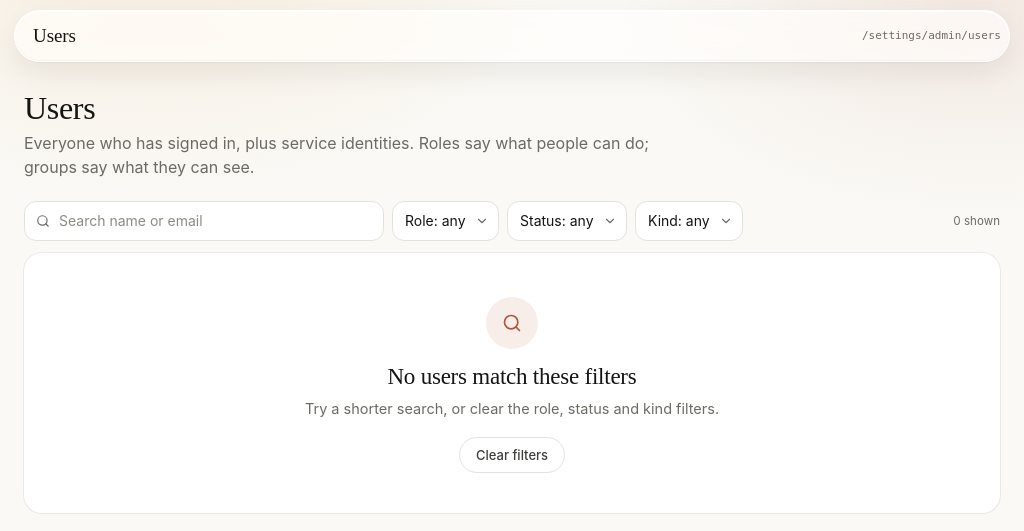
Scenario: UsersPage › an empty match offers Clear filters
Type "zainab" into the search field labelled "Search name or email" at x=204, y=221, box [24,201,384,241]
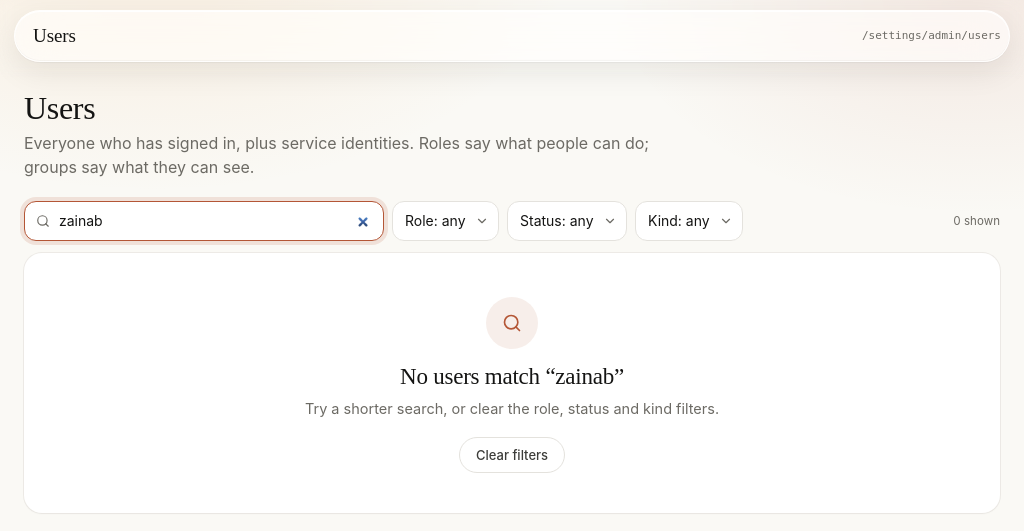
Result: the heading "No users match “zainab”" is shown at [400,364,624,389]
Click the button "Clear filters" at x=512, y=455, box [459,437,565,473]
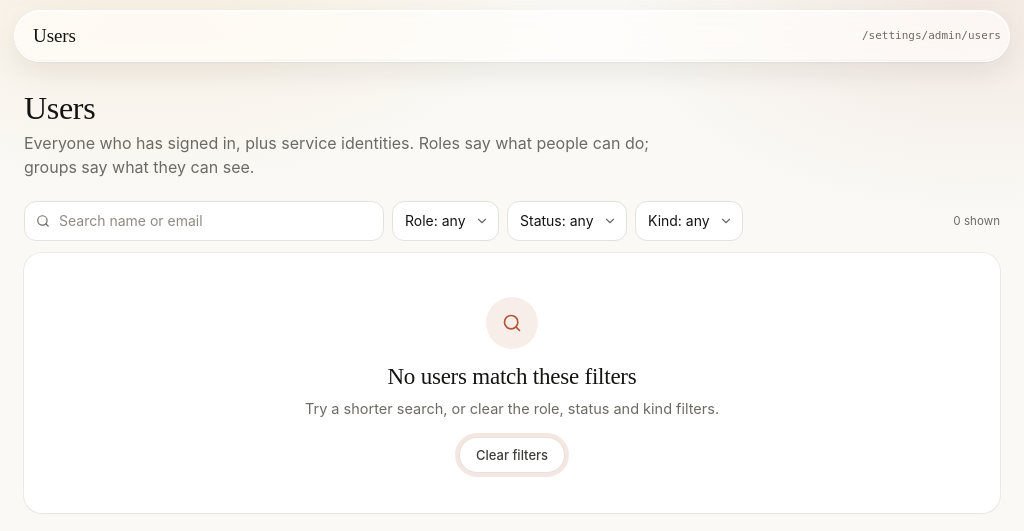
Result: the search field labelled "Search name or email" is empty at [24,201,384,241]
